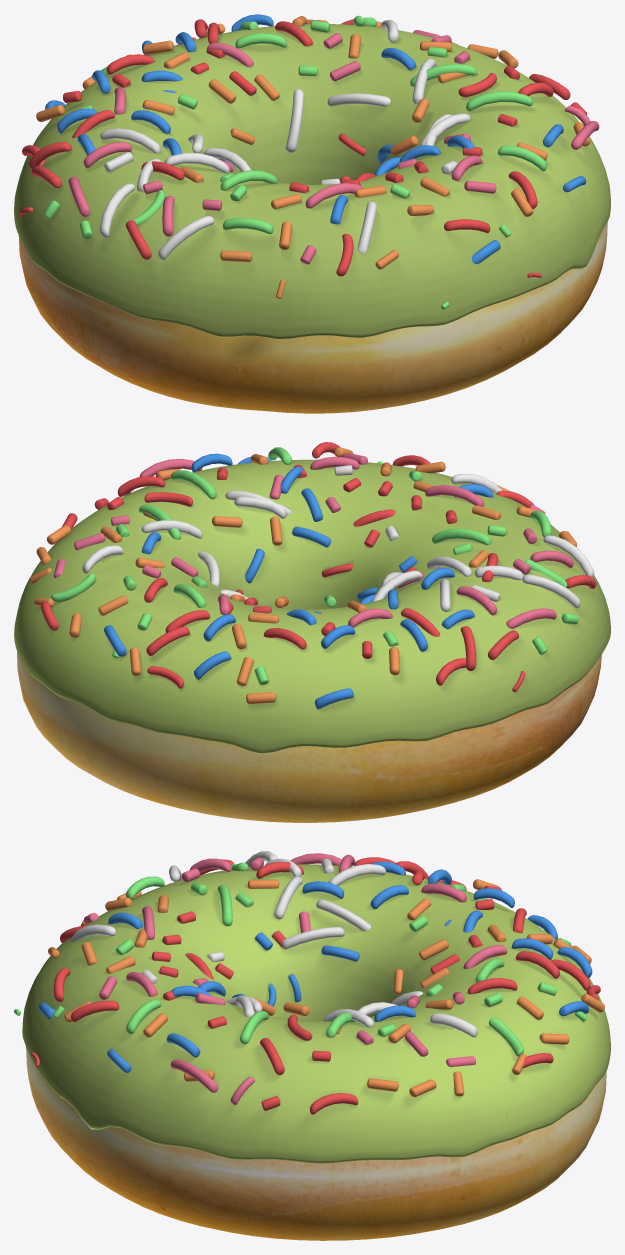
Rendered from pistachio Rainbow vermicheli.glb.
3 renders of one model, top to bottom at view 1: azimuth 30°, elevation 25°; view 2: azimuth 150°, elevation 25°; view 3: azimuth 270°, elevation 25°, orthographic. The views are drawn at different scales.
Parts seen in each view (by area): view 1: coffee.001, pustachio, blue.002, Torus; view 2: pustachio, coffee.001, blue.002, Torus; view 3: pustachio, coffee.001, Torus, blue.002.
Boxes of the visible parts, bbox=[...] form: coffee.001: bbox=[14, 24, 610, 338]; pustachio: bbox=[14, 24, 610, 339]; blue.002: bbox=[19, 14, 599, 309]; Torus: bbox=[18, 222, 607, 413]; pustachio: bbox=[14, 460, 606, 753]; coffee.001: bbox=[14, 459, 610, 753]; blue.002: bbox=[30, 442, 596, 709]; Torus: bbox=[17, 651, 601, 822]; pustachio: bbox=[23, 864, 610, 1163]; coffee.001: bbox=[22, 864, 610, 1163]; Torus: bbox=[26, 1047, 606, 1240]; blue.002: bbox=[14, 851, 604, 1114].
Size of the model in its own units: 0.1989 by 0.0773 by 0.2.
9 materials, 2 textured.
